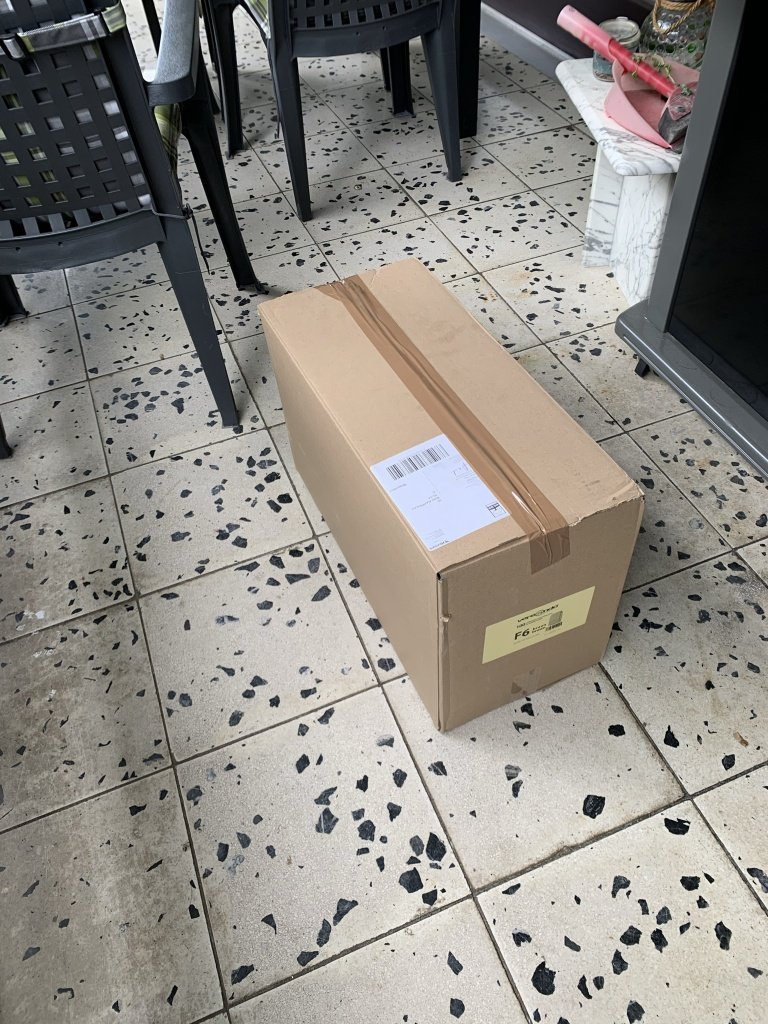good-parcel: (253, 256, 657, 743)
